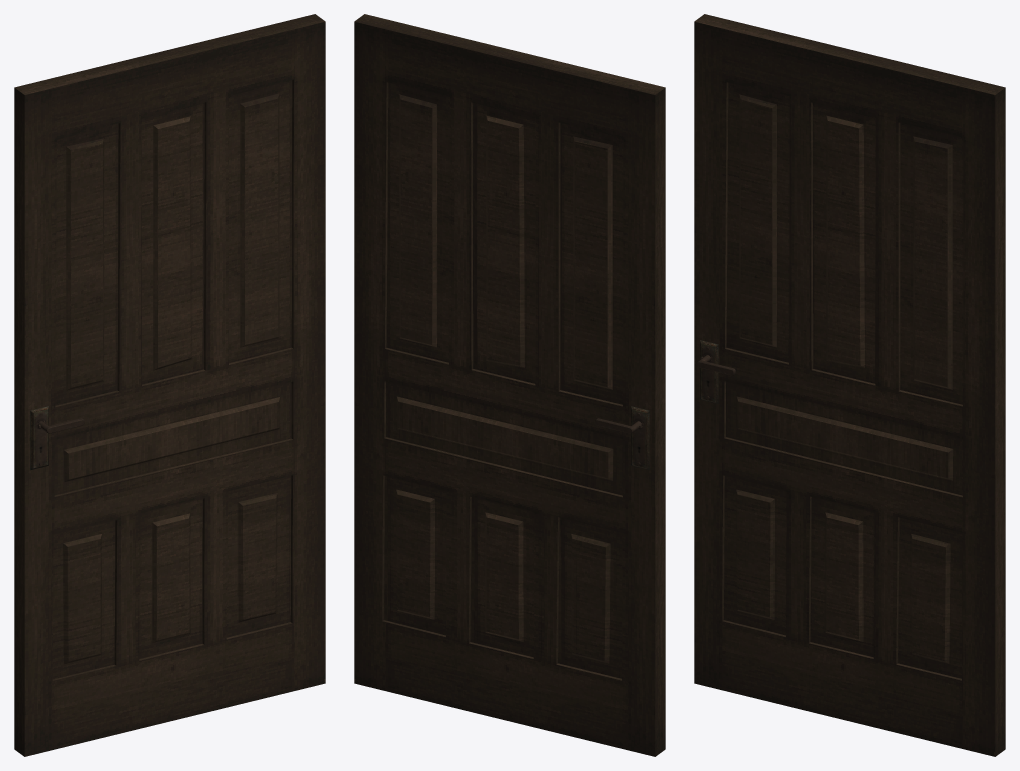
Rendered from door_2_loose.glb.
3 views of the same model, side by side, from view 1: azimuth 30°, elevation 25°; view 2: azimuth 150°, elevation 25°; view 3: azimuth 330°, elevation 25° (orthographic).
Visible parts, largest first — view 1: door_2_loose; view 2: door_2_loose; view 3: door_2_loose.
Part boxes in pixels (x1,y1,x2,y2): door_2_loose: (14,14,325,756); door_2_loose: (354,14,665,756); door_2_loose: (694,14,1005,756).
Bounding box in the file's own units: 1 × 2.1 × 0.178.
2 materials, 2 textured.
